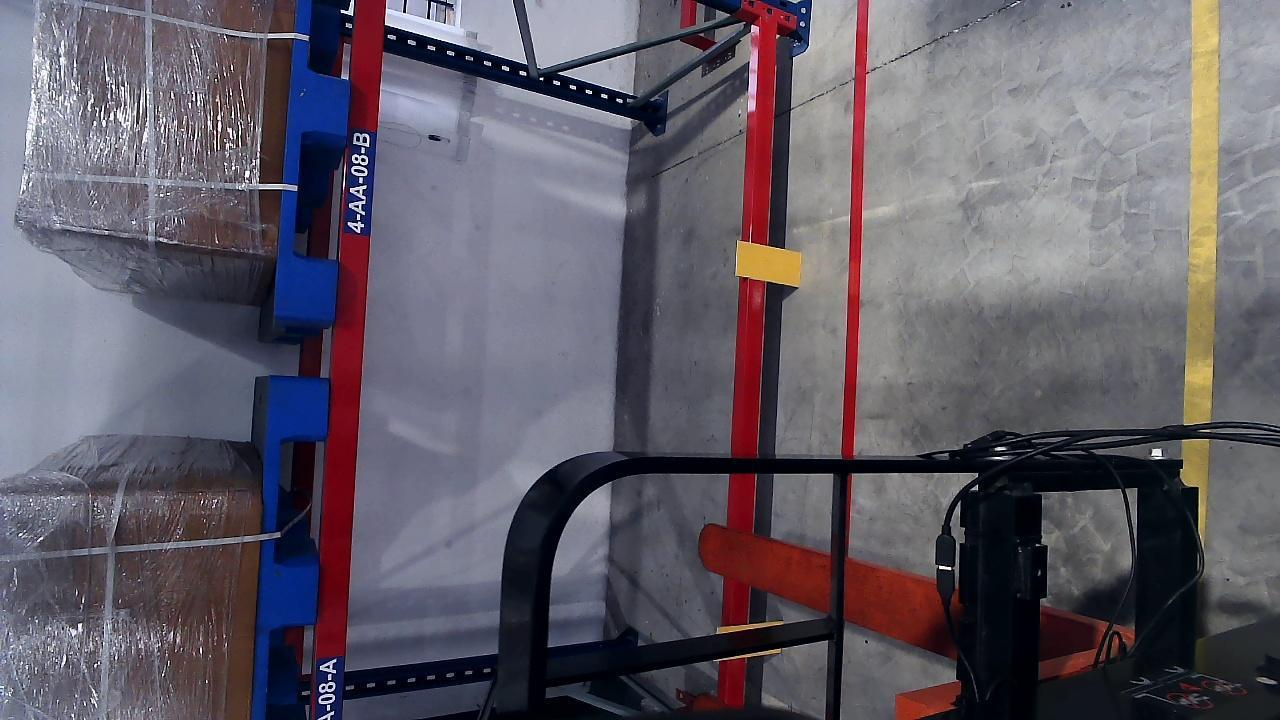red_line: (838, 9, 870, 578)
yellow_line: (1181, 0, 1221, 425)
